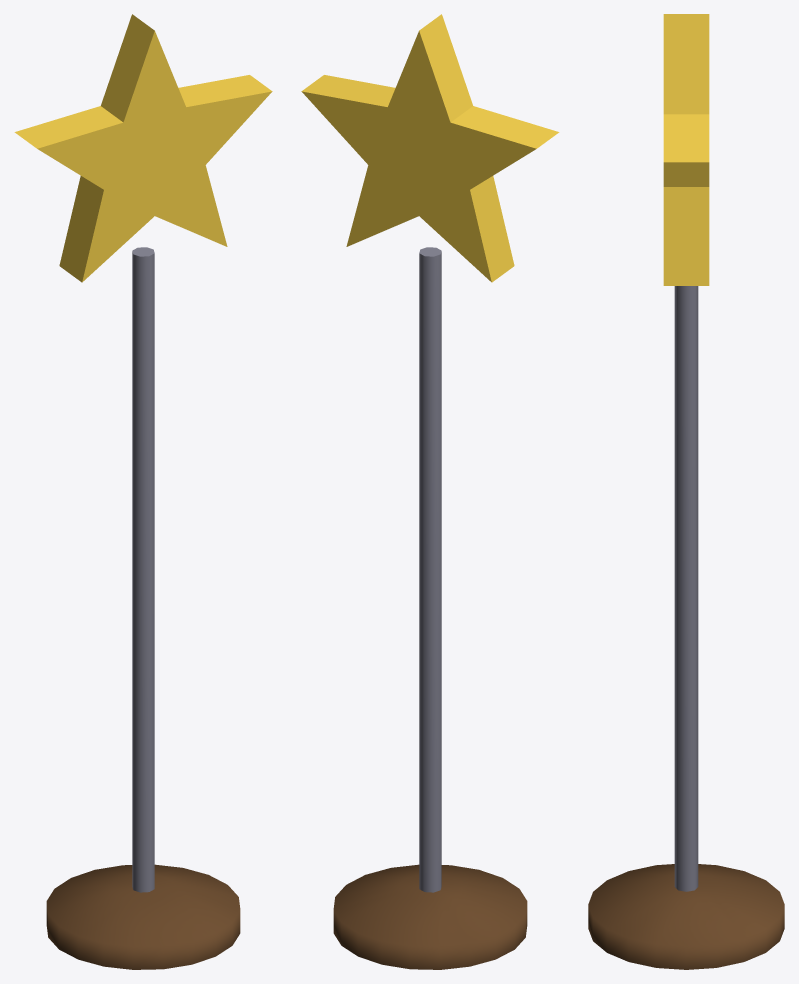
Rendered from furn_toy_star.glb.
3 renders of one model, left to right at view 1: azimuth 30°, elevation 25°; view 2: azimuth 150°, elevation 25°; view 3: azimuth 270°, elevation 25°, orthographic.
Visible parts, largest first — view 1: furn_toy_star_main, furn_toy_star_glow; view 2: furn_toy_star_main, furn_toy_star_glow; view 3: furn_toy_star_main, furn_toy_star_glow.
Part boxes in pixels (x1,y1,x2,y2): furn_toy_star_main: (46,247,240,969); furn_toy_star_glow: (14,14,272,282); furn_toy_star_main: (333,247,527,969); furn_toy_star_glow: (301,14,559,282); furn_toy_star_main: (588,286,784,969); furn_toy_star_glow: (663,14,709,285).
Bounding box in the file's own units: 0.4185 × 1.54 × 0.3.
